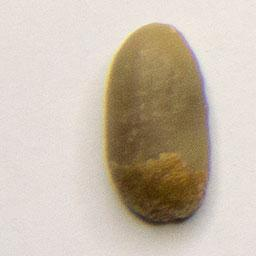longberry: (101, 19, 217, 229)
